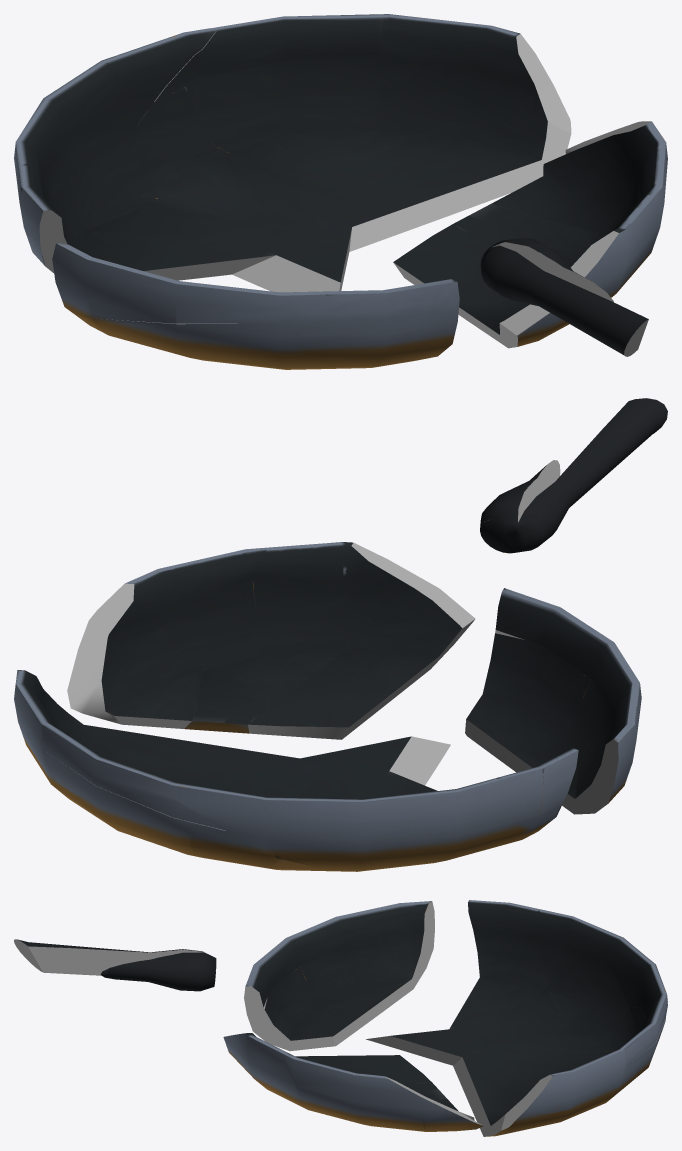
File: panbroken.fbx
3 renders of one model, top to bottom at view 1: azimuth 30°, elevation 25°; view 2: azimuth 150°, elevation 25°; view 3: azimuth 270°, elevation 25°, orthographic. The views are drawn at different scales.
Parts seen in each view (by area): view 1: Fracture_Chunk_046, Fracture_Chunk_048, Fracture_Chunk_043, Fracture_Chunk_040, Fracture_Chunk_041, Fracture_Chunk_038, Fracture_Chunk_042, Fracture_Chunk_045, Fracture_Chunk_049, Fracture_Chunk_044, Fracture_Chunk_037, Fracture_Chunk_039 (+3 smaller); view 2: Fracture_Chunk_044, Fracture_Chunk_045, Fracture_Chunk_043, Fracture_Chunk_037, Fracture_Chunk_041, Fracture_Chunk_040, Fracture_Chunk_046, Fracture_Chunk_048, Fracture_Chunk_038, Fracture_Chunk_042, Fracture_Chunk_049, Fracture_Chunk_058 (+3 smaller); view 3: Fracture_Chunk_041, Fracture_Chunk_043, Fracture_Chunk_042, Fracture_Chunk_040, Fracture_Chunk_046, Fracture_Chunk_045, Fracture_Chunk_038, Fracture_Chunk_044, Fracture_Chunk_054, Fracture_Chunk_039, Fracture_Chunk_048, Fracture_Chunk_037 (+3 smaller).
Part boxes in pixels (x1,y1,x2,y2): Fracture_Chunk_046: (349,14,571,251); Fracture_Chunk_048: (185,53,379,221); Fracture_Chunk_043: (14,28,215,231); Fracture_Chunk_040: (52,243,459,323); Fracture_Chunk_041: (75,311,458,369); Fracture_Chunk_038: (126,87,352,279); Fracture_Chunk_042: (17,163,275,280); Fracture_Chunk_045: (491,121,667,237); Fracture_Chunk_049: (154,14,384,101); Fracture_Chunk_044: (453,194,661,297); Fracture_Chunk_037: (393,224,569,348); Fracture_Chunk_039: (118,151,344,292); Fracture_Chunk_044: (184,542,408,733); Fracture_Chunk_045: (67,547,266,728); Fracture_Chunk_043: (151,775,507,871); Fracture_Chunk_037: (248,571,475,739); Fracture_Chunk_041: (465,633,625,814); Fracture_Chunk_040: (495,588,641,807); Fracture_Chunk_046: (14,670,299,801); Fracture_Chunk_048: (44,751,288,857); Fracture_Chunk_038: (190,743,374,870); Fracture_Chunk_042: (371,748,578,852); Fracture_Chunk_049: (43,724,224,830); Fracture_Chunk_058: (515,420,611,552); Fracture_Chunk_041: (245,956,430,1051); Fracture_Chunk_043: (539,909,667,1016); Fracture_Chunk_042: (449,900,560,1029); Fracture_Chunk_040: (244,901,434,1009); Fracture_Chunk_046: (453,1048,626,1136); Fracture_Chunk_045: (283,1053,483,1131); Fracture_Chunk_038: (413,1006,645,1065); Fracture_Chunk_044: (230,1033,446,1117); Fracture_Chunk_054: (100,952,216,991); Fracture_Chunk_039: (366,1010,617,1054); Fracture_Chunk_048: (470,1016,665,1090); Fracture_Chunk_037: (223,1035,431,1082).
Bounding box in the file's own units: 70.29 × 20.86 × 103.
